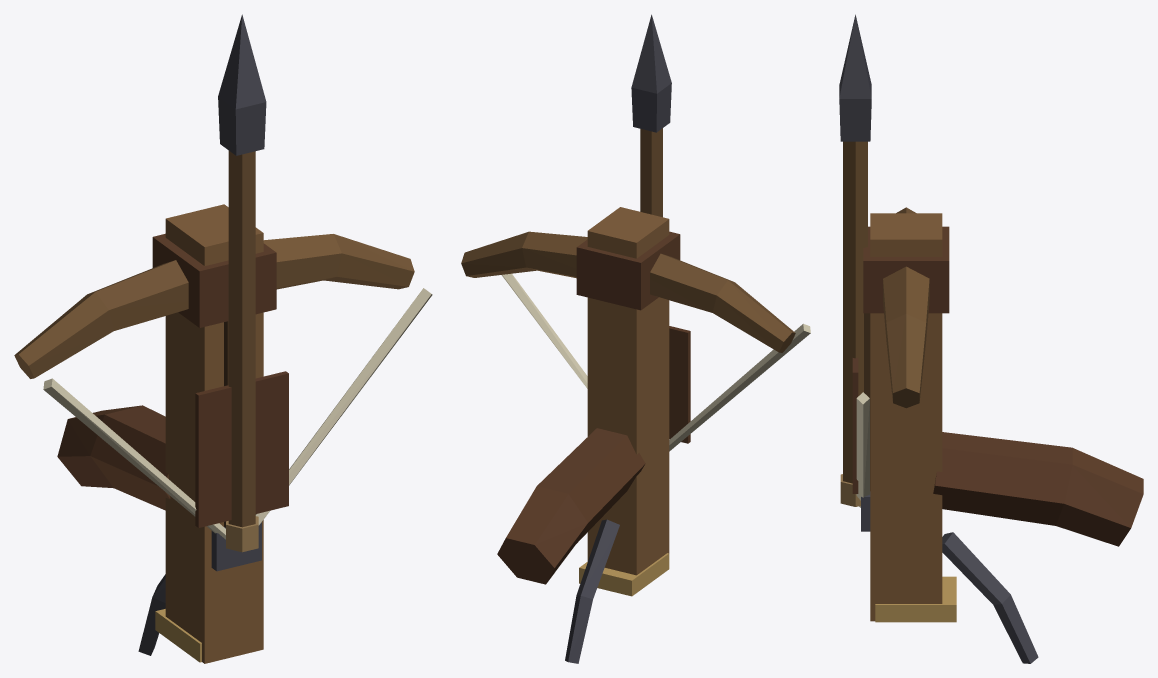
The model's file is weapon_crossbow_hand.glb.
3 views of the same model, side by side, from view 1: azimuth 30°, elevation 25°; view 2: azimuth 150°, elevation 25°; view 3: azimuth 270°, elevation 25° (orthographic). The views are drawn at different scales.
Visible parts, largest first — view 1: weapon_crossbow_hand, weapon_crossbow_hand_bolt, weapon_crossbow_hand_string; view 2: weapon_crossbow_hand, weapon_crossbow_hand_bolt, weapon_crossbow_hand_string; view 3: weapon_crossbow_hand, weapon_crossbow_hand_bolt, weapon_crossbow_hand_string.
Part boxes in pixels (x1,y1,x2,y2): weapon_crossbow_hand: (14, 204, 414, 663); weapon_crossbow_hand_bolt: (195, 14, 288, 552); weapon_crossbow_hand_string: (43, 288, 432, 539); weapon_crossbow_hand: (461, 207, 795, 663); weapon_crossbow_hand_bolt: (631, 14, 690, 443); weapon_crossbow_hand_string: (501, 273, 810, 451); weapon_crossbow_hand: (861, 207, 1143, 663); weapon_crossbow_hand_bolt: (839, 14, 871, 506); weapon_crossbow_hand_string: (856, 392, 869, 507).
Size of the model in its own units: 0.4331 by 0.7485 by 0.3179.
